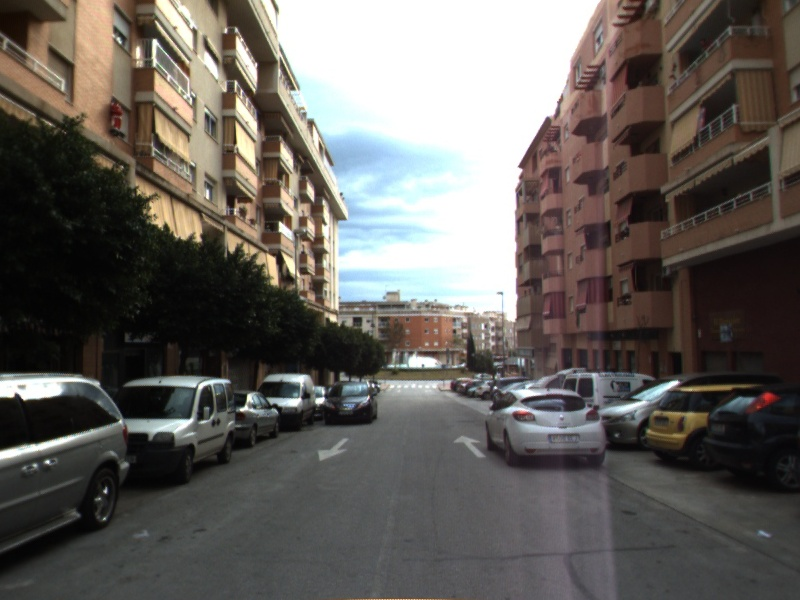STRAIGHT: (452, 433, 488, 459)
